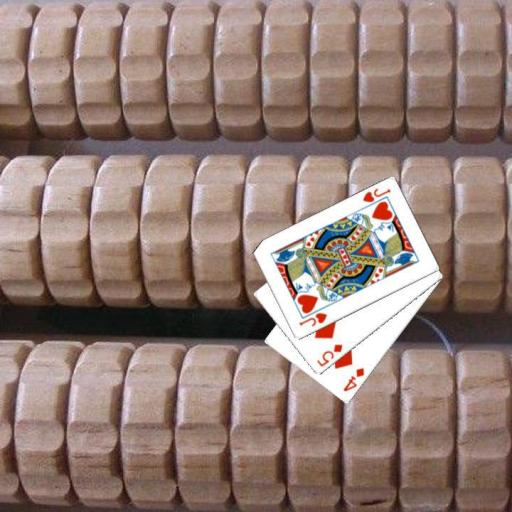4D: (340, 365, 366, 393)
5D: (314, 342, 344, 369)
JH: (359, 186, 392, 204), (296, 310, 328, 328)
